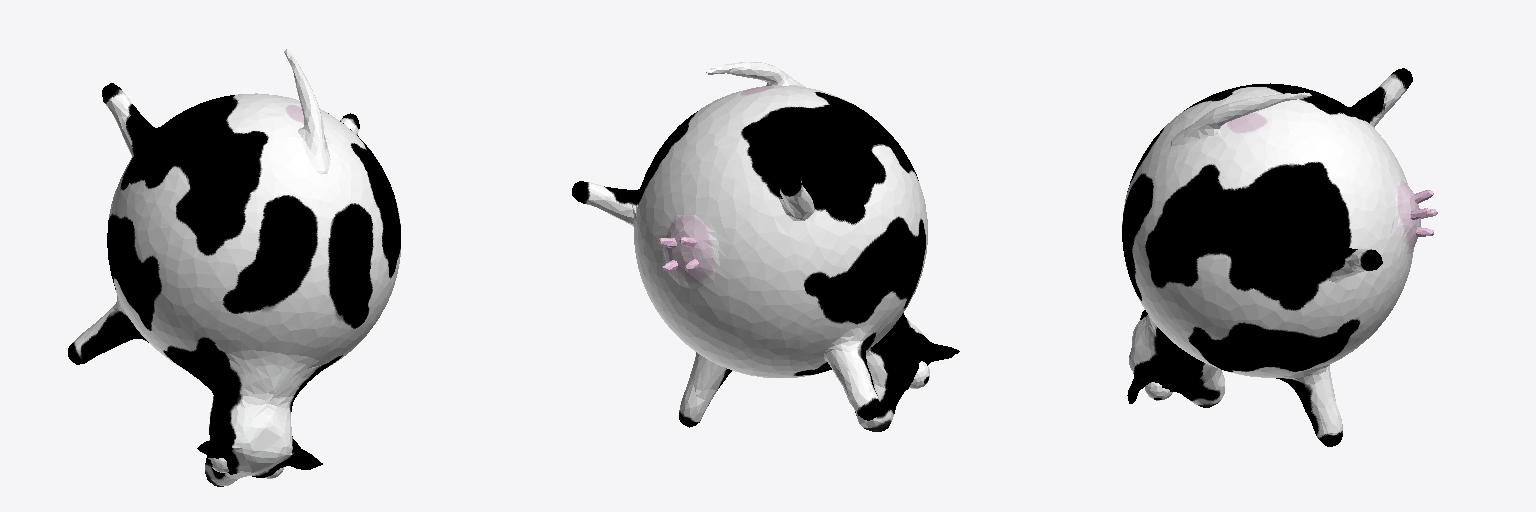
3 views of the same model, side by side, from view 1: azimuth 30°, elevation 25°; view 2: azimuth 150°, elevation 25°; view 3: azimuth 270°, elevation 25° (orthographic).
Visible parts, largest first — view 1: Layer_1; view 2: Layer_1; view 3: Layer_1.
Boxes of the visible parts, x1,y1,x2,y2 form: Layer_1: [68, 49, 400, 486]; Layer_1: [572, 62, 959, 431]; Layer_1: [1122, 68, 1437, 446].
Size of the model in its own units: 52.14 by 61.94 by 47.94.
2 materials, 2 textured.